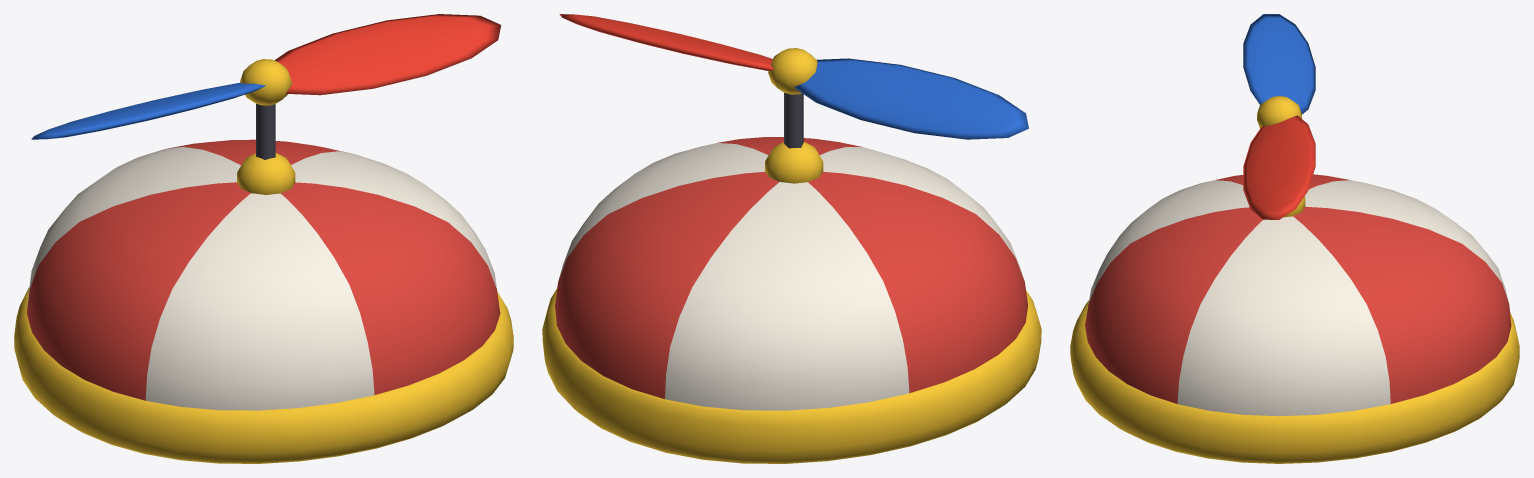
Rendered from hat_propeller.glb.
3 views of the same model, side by side, from view 1: azimuth 30°, elevation 25°; view 2: azimuth 150°, elevation 25°; view 3: azimuth 270°, elevation 25° (orthographic). The views are drawn at different scales.
Visible parts, largest first — view 1: HatPropeller, Spin; view 2: HatPropeller, Spin; view 3: HatPropeller, Spin.
Part boxes in pixels (<box>): HatPropeller: <box>14,103,513,463</box>; Spin: <box>31,14,501,139</box>; HatPropeller: <box>542,93,1041,463</box>; Spin: <box>559,14,1028,139</box>; HatPropeller: <box>1070,174,1519,463</box>; Spin: <box>1243,14,1315,219</box>.
Bounding box in the file's own units: 0.62 × 0.389 × 0.5722.
